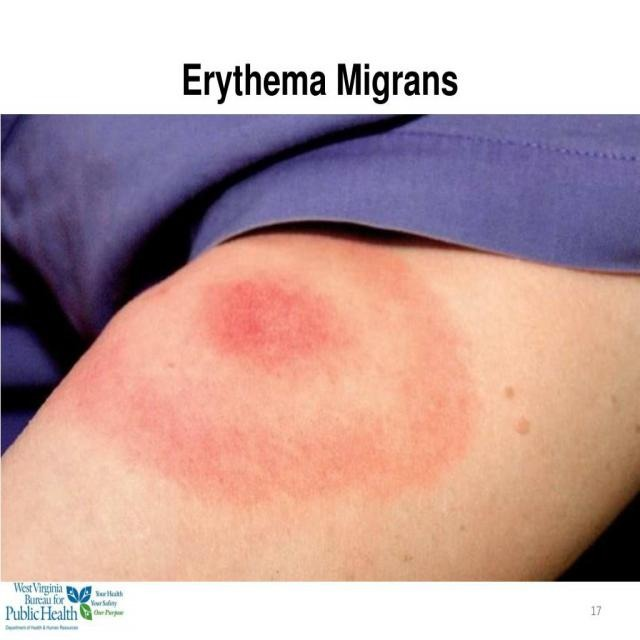Ringworm: (183, 250, 362, 383)
